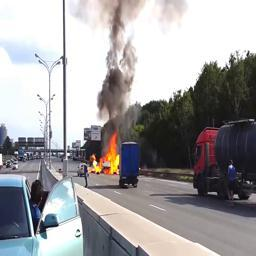fire: (90, 131, 120, 175)
